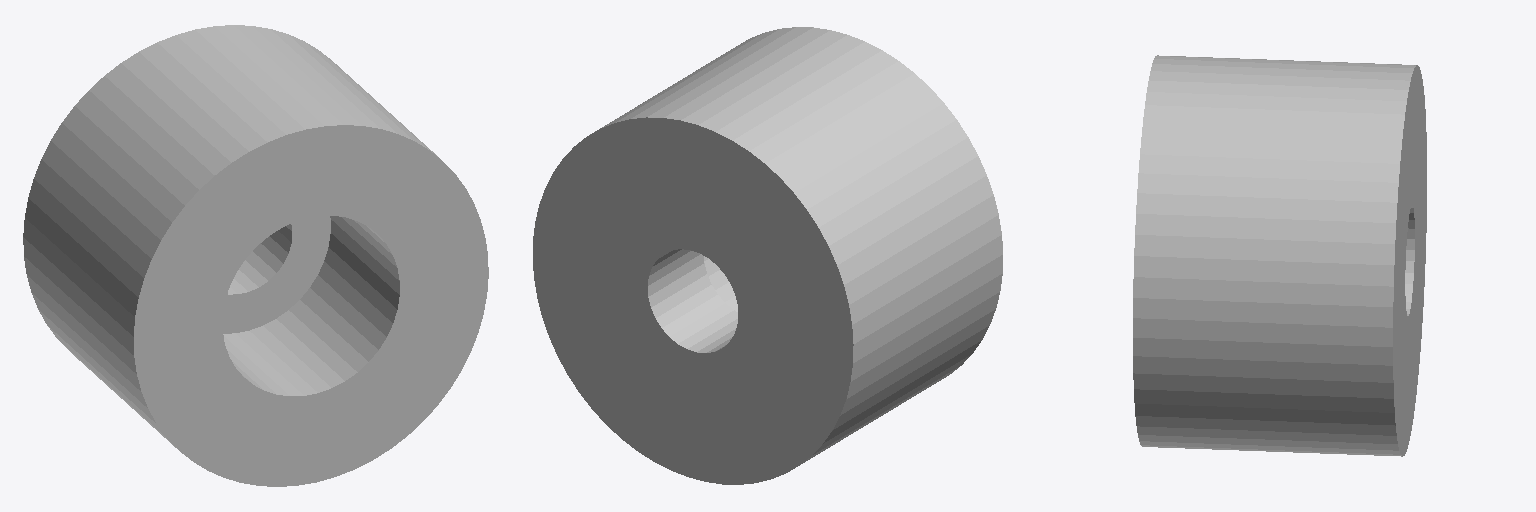
Rendered from torso_l1_2.obj.
3 views of the same model, side by side, from view 1: azimuth 30°, elevation 25°; view 2: azimuth 150°, elevation 25°; view 3: azimuth 270°, elevation 25° (orthographic).
Bounding box in the file's own units: 0.0126 × 0.012 × 0.009.